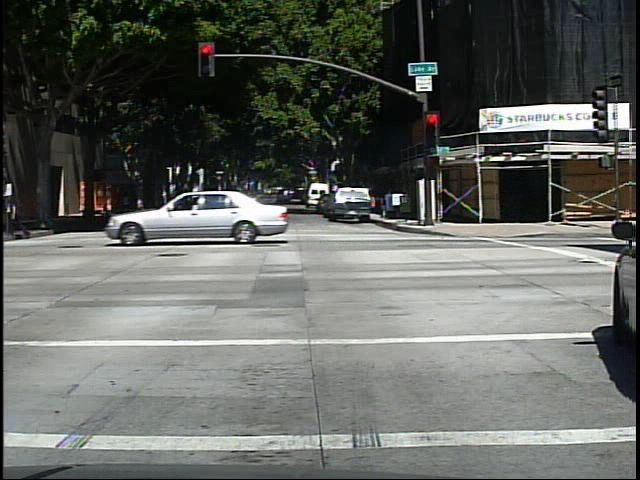person: (5, 189, 32, 242)
